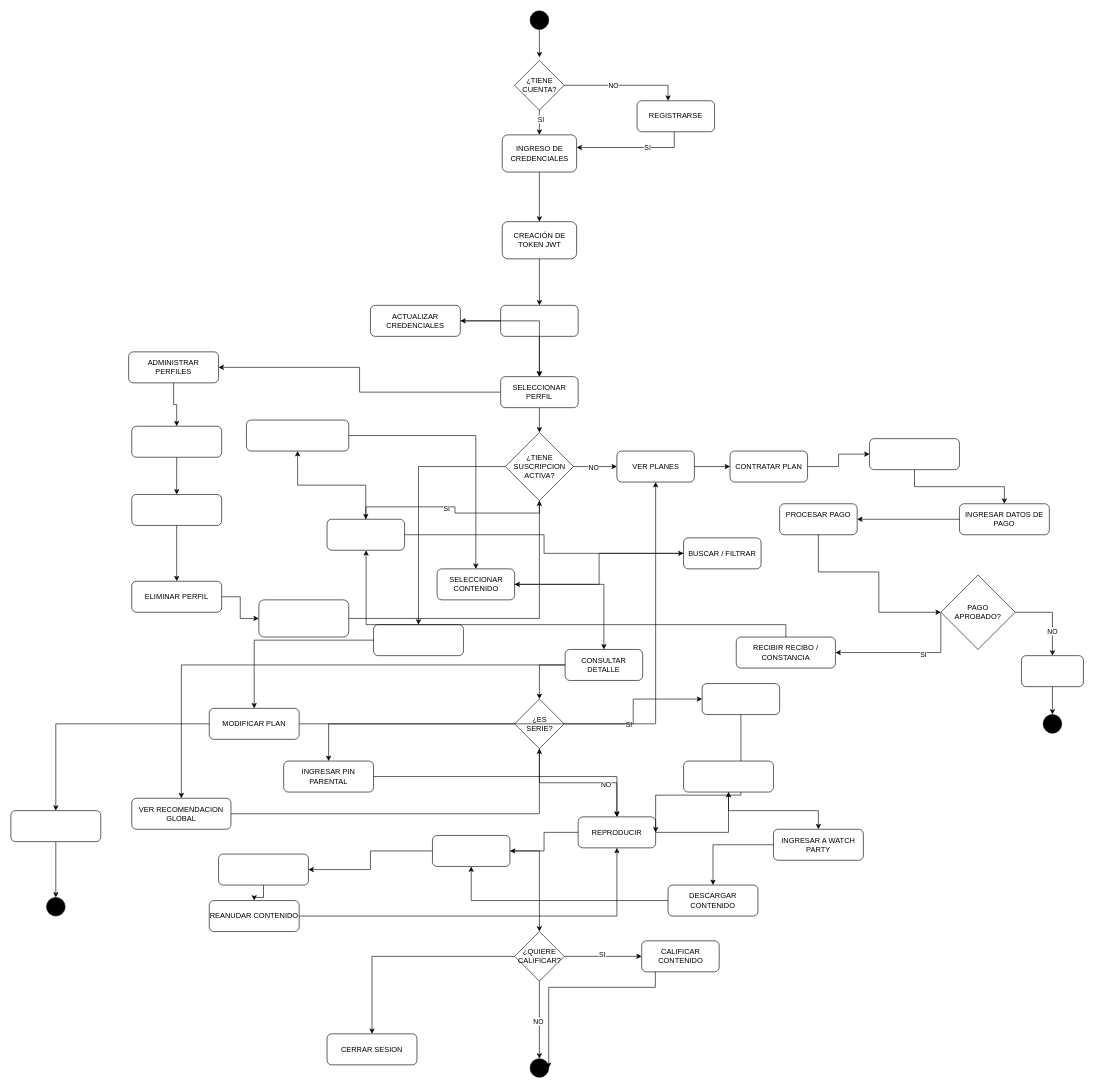
Some shapes in this 1094 by 1088 pixel diagram are drawn without their labels. The box of each missing label's shape, as (x1, y1, x2, y2) in pixels:
ADMINISTRAR SUSCRIPCION: (373, 624, 463, 656)
CANCELAR SUSCRIPCION: (10, 810, 101, 842)
CONFIGURAR CONTROL PARENTAL: (258, 599, 349, 637)
CONSULTAR HISTORIAL: (218, 853, 308, 885)
CONSULTAR TIPO DE CAMBIO: (869, 438, 959, 470)
CREAR PERFIL: (131, 426, 222, 457)
CREAR WATCH PARTY: (683, 760, 773, 792)
EXPLORAR CATALOGO: (326, 519, 405, 550)
GUARDAR PROGRESO: (432, 835, 510, 866)
INICIAR SESION: (500, 305, 578, 336)
MODIFICAR PERFIL: (131, 494, 222, 525)
MOSTRAR ERROR DE PAGO: (1021, 655, 1083, 687)
SELECCIONAR EPISODIO: (702, 683, 780, 715)
VER RECOMENDADOS PARA TI: (246, 419, 349, 451)
